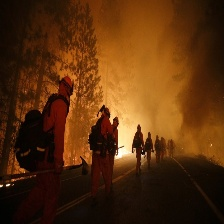fire: (113, 135, 135, 163)
smoke: (100, 9, 221, 143)
